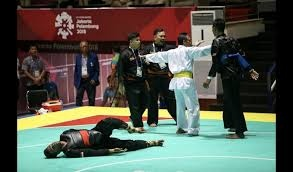falling: (39, 109, 165, 158)
